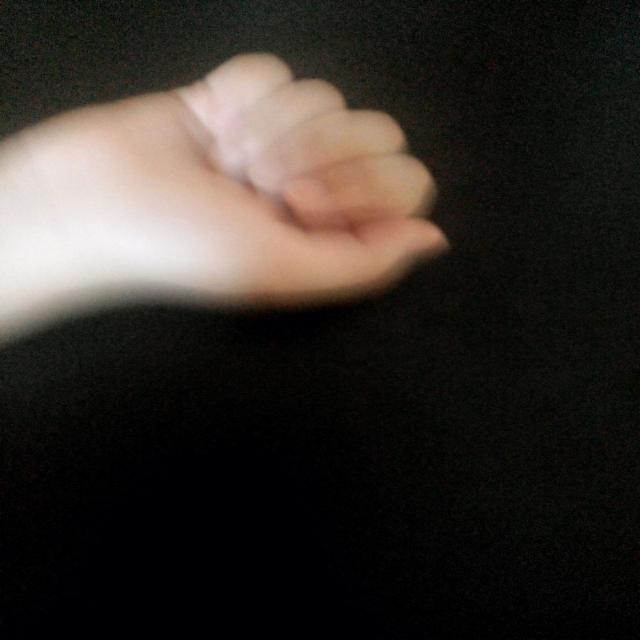Closed Hand: (27, 35, 450, 312)
